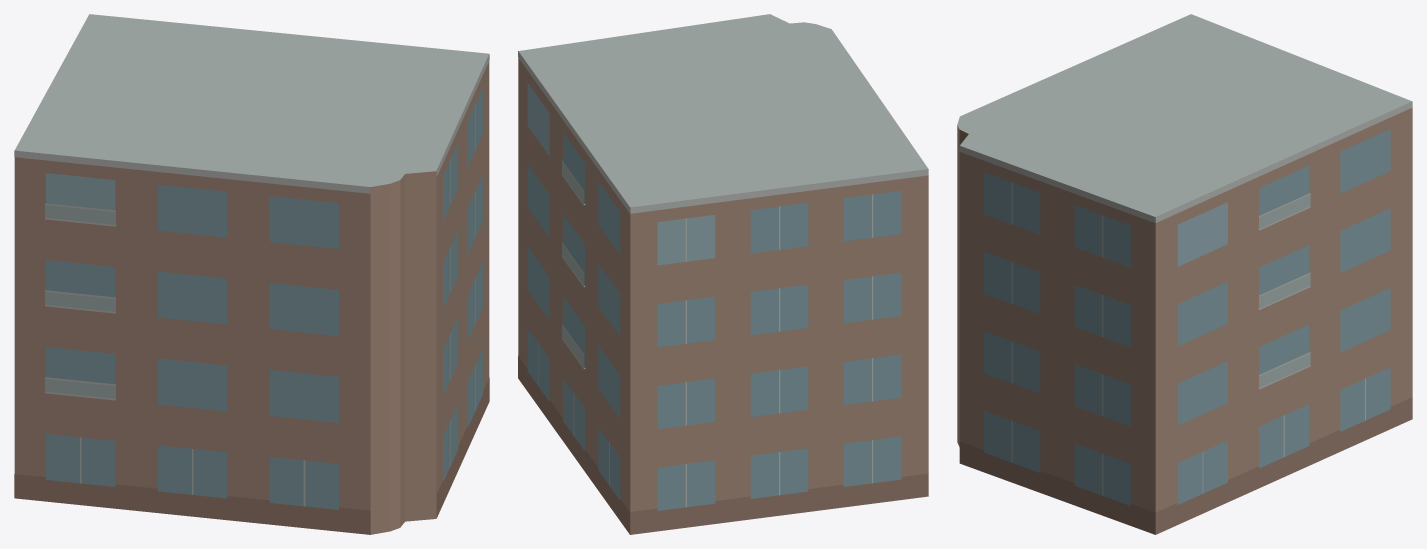
Rendered from survey-upis-32882385.glb.
3 views of the same model, side by side, from view 1: azimuth 30°, elevation 25°; view 2: azimuth 150°, elevation 25°; view 3: azimuth 270°, elevation 25° (orthographic). The views are drawn at different scales.
Visible parts, largest first — view 1: survey-upis-32882385.tmp; view 2: survey-upis-32882385.tmp; view 3: survey-upis-32882385.tmp.
Part boxes in pixels (box(x1,y1,x2,y2)): survey-upis-32882385.tmp: box(14, 14, 489, 534); survey-upis-32882385.tmp: box(518, 14, 928, 534); survey-upis-32882385.tmp: box(957, 14, 1412, 534).
Bounding box in the file's own units: 17.42 × 12.7 × 16.49.
